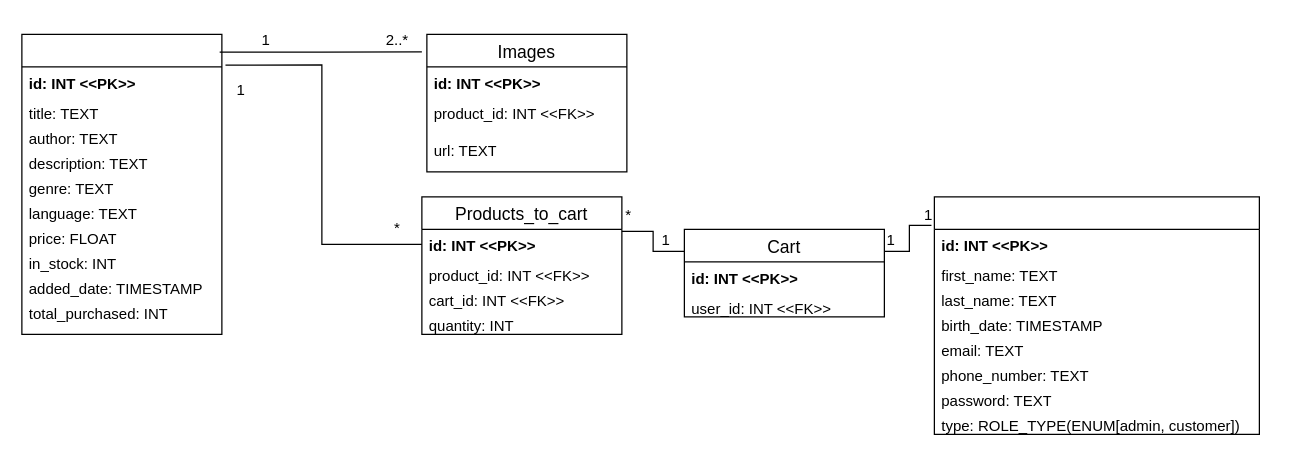
This 1291x459 diagram has some shape labels left out. The shapes that lost their labels are listed below. From the top down, each one's box as (x1, y1, x2, y2) in pixels, then its label:
(21, 33, 222, 334): Product
(933, 196, 1259, 434): User
